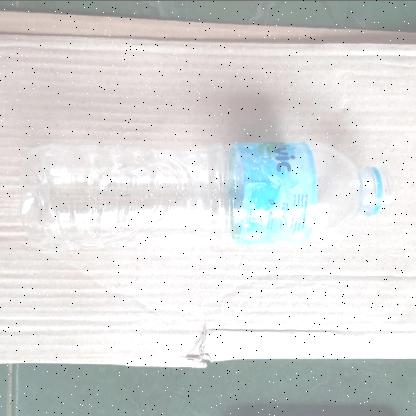Plastic Bottle: (21, 141, 395, 251)
